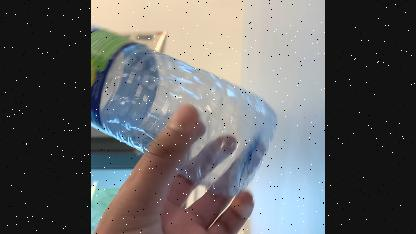Plastic Bottle: (91, 21, 279, 201)
